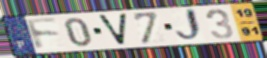0: (63, 17, 95, 48)
3: (205, 8, 234, 40)
7: (133, 11, 161, 45)
F: (24, 17, 63, 52)
J: (174, 7, 206, 44)
V: (95, 13, 130, 47)
